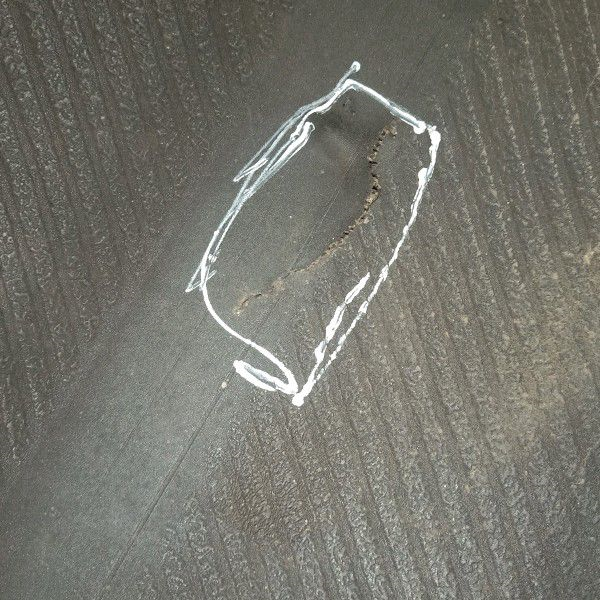CBU: (233, 116, 397, 318)
